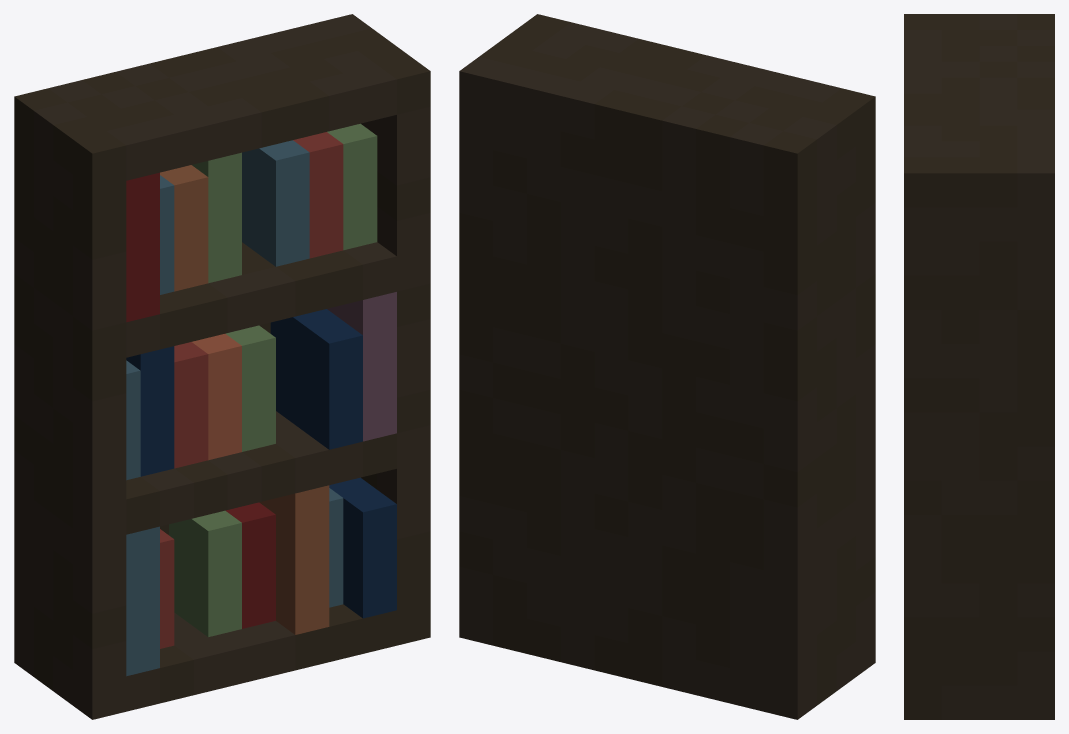
File: tavern-35-bookshelf_books.obj
3 renders of one model, left to right at view 1: azimuth 30°, elevation 25°; view 2: azimuth 150°, elevation 25°; view 3: azimuth 270°, elevation 25°, orthographic. The views are drawn at different scales.
Parts seen in each view (by area): view 1: bookshelf_books; view 2: bookshelf_books; view 3: bookshelf_books.
Part boxes in pixels (x1,y1,x2,y2): bookshelf_books: [14, 14, 430, 719]; bookshelf_books: [459, 14, 875, 719]; bookshelf_books: [904, 14, 1054, 719].
Size of the model in its own units: 1 by 1.6 by 0.4.
Materials: 1 (1 with a texture image).
